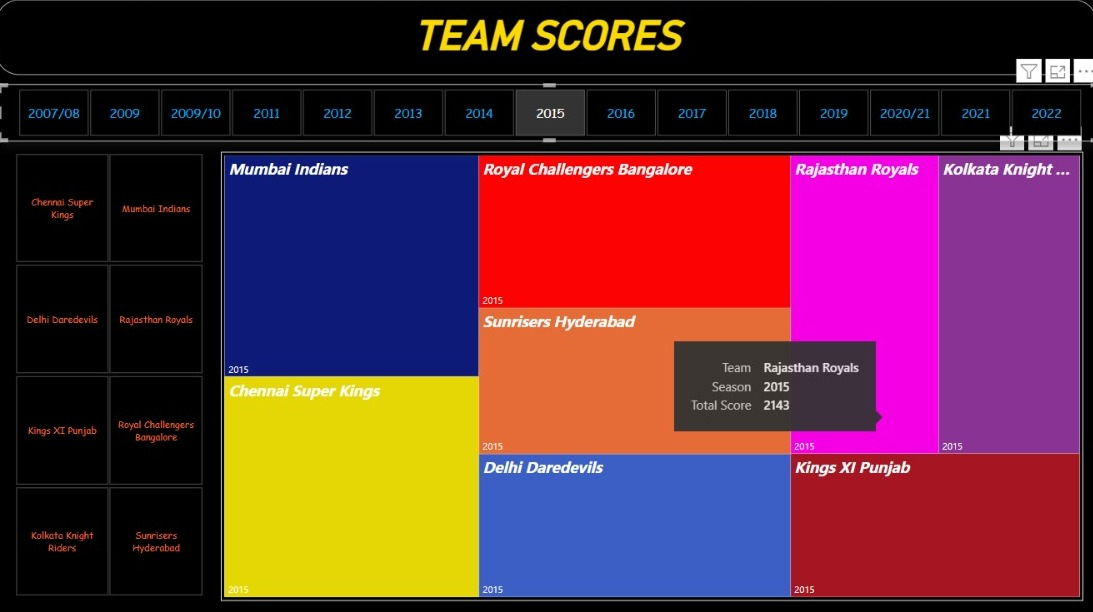

This screenshot's page, from the dashboard's own definition file:
{"tool":"powerbi","page":{"name":"Team Scores","canvas":[1420,800],"ordinal":5},"visuals":[{"type":"textbox","box":[0,0,1416.4,96.5],"z":0},{"type":"slicer","fields":{"Values":["TEAM RUNS.BattingTeam"]},"box":[0,191.6,289.4,581.6],"z":1000},{"type":"slicer","fields":{"Values":["TEAM RUNS.Season"]},"box":[4,108.5,1416.4,73.7],"z":2000},{"type":"treemap","fields":{"Group":["TEAM RUNS.BattingTeam"],"Values":["Sum(TEAM RUNS.Runs)"],"Details":["TEAM RUNS.Season"]},"box":[289.4,195.6,1109.5,577.6],"z":3000}]}

Visuals, with their boxes on the page's 1420x800 design canvas (x1, y1, x2, y2). These are canvas units, not pixel positions in the 1093x612 screenshot, which may show the page scaled, cropped or inside an application window:
textbox: (0, 0, 1416, 96)
slicer - TEAM RUNS.BattingTeam: (0, 192, 289, 773)
slicer - TEAM RUNS.Season: (4, 108, 1420, 182)
treemap - TEAM RUNS.BattingTeam x Sum(TEAM RUNS.Runs): (289, 196, 1399, 773)
